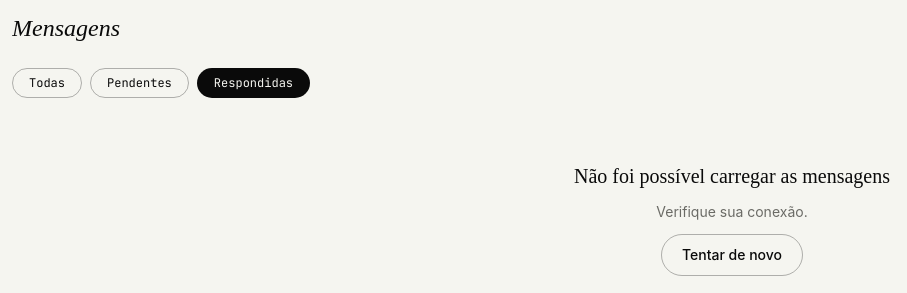
Test: MessagesPanel › mostra erro com "tentar de novo" e vazio por filtro
This screenshot has width=907, height=293.
Expected: the message shows "Não foi possível carregar as mensagens", [574,165,890,187]
Click the button "Tentar de novo": (732, 255) [661,234,803,276]
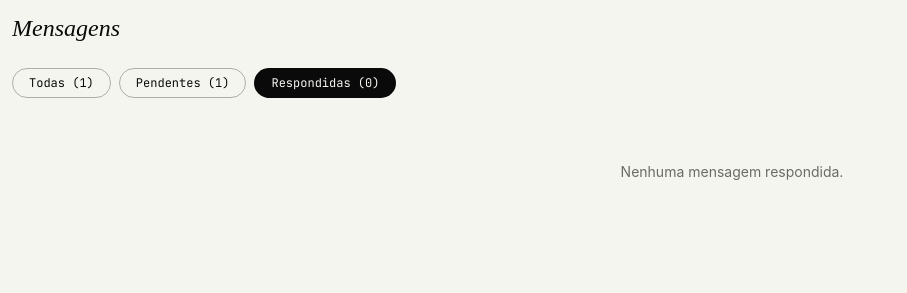
Expected: the text "Nenhuma mensagem respondida." is shown, [621,162,843,182]
